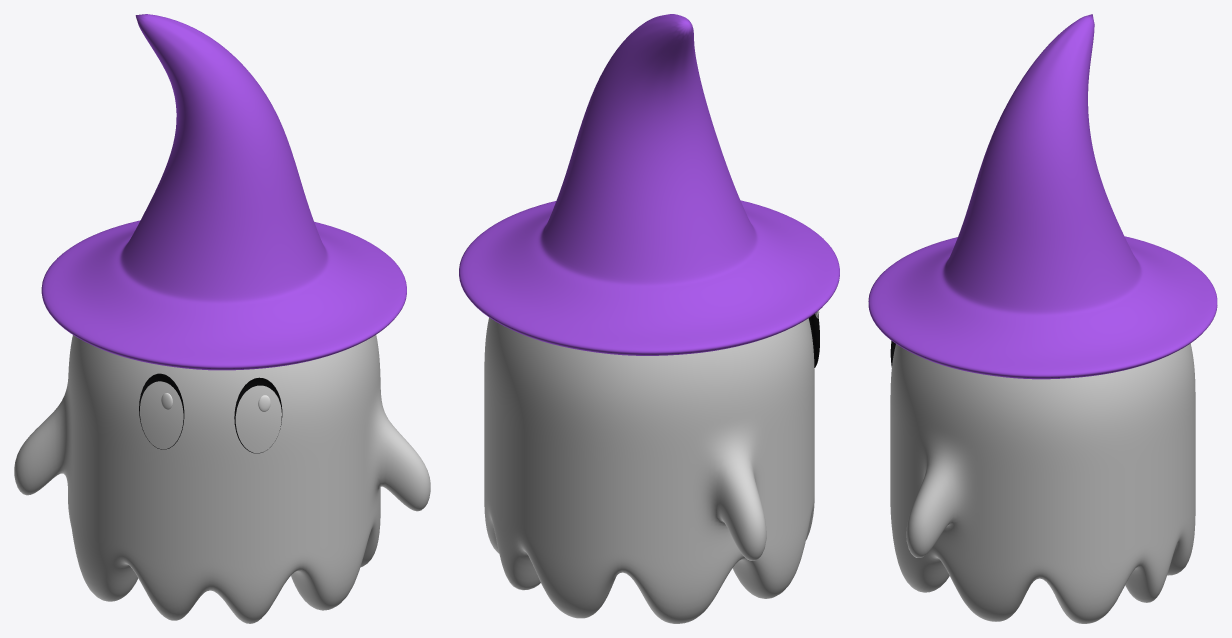
Rendered from Ghost.gltf.
3 views of the same model, side by side, from view 1: azimuth 30°, elevation 25°; view 2: azimuth 150°, elevation 25°; view 3: azimuth 270°, elevation 25° (orthographic). The views are drawn at different scales.
Visible parts, largest first — view 1: Ghost; view 2: Ghost; view 3: Ghost.
Part boxes in pixels (box(x1,y1,x2,y2)): Ghost: box(14, 14, 430, 623); Ghost: box(459, 14, 839, 623); Ghost: box(868, 14, 1217, 623).
Size of the model in its own units: 1.96 by 3.27 by 1.95.
